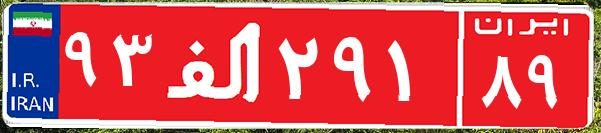1: (385, 28, 445, 110)
2: (273, 28, 330, 110)
3: (110, 28, 158, 105)
8: (475, 38, 525, 113)
9: (330, 28, 385, 110), (57, 26, 110, 107), (525, 38, 570, 115)
الف: (158, 15, 273, 115)
